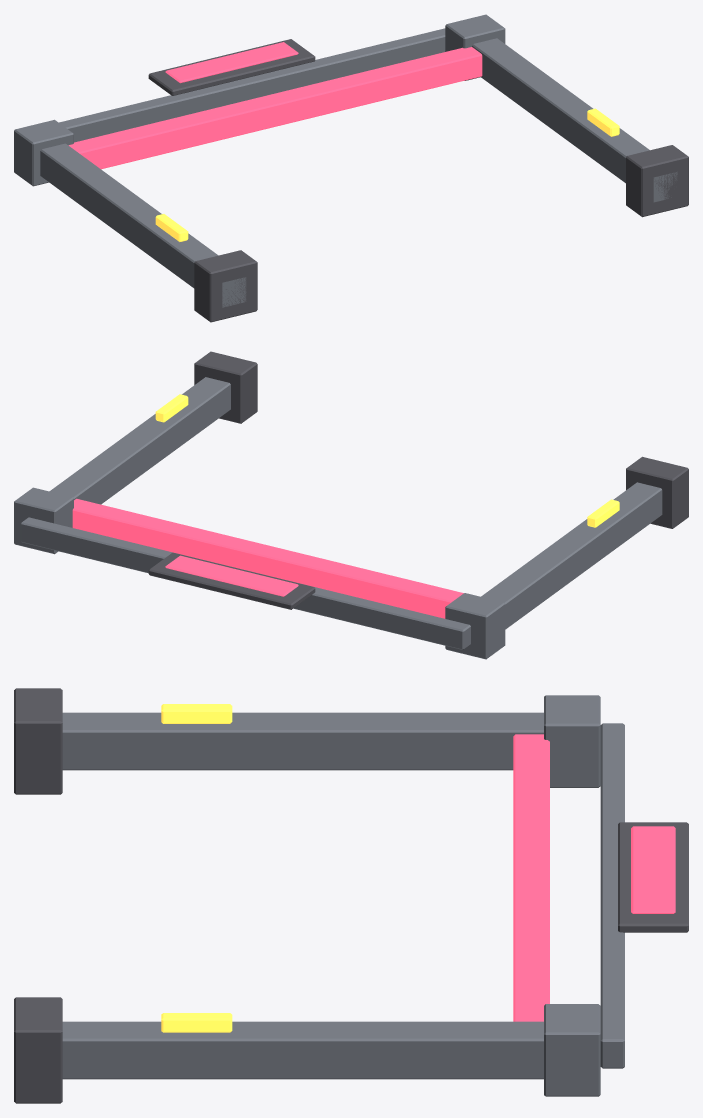
The model's file is hazard_laser_gate.glb.
The picture shows the model from 3 angles, top to bottom: view 1: azimuth 30°, elevation 25°; view 2: azimuth 150°, elevation 25°; view 3: azimuth 270°, elevation 25°; orthographic projection. The views are drawn at different scales.
Visible parts, largest first — view 1: HazardLaserGate; view 2: HazardLaserGate; view 3: HazardLaserGate.
Boxes of the visible parts, box(x1,y1,x2,y2) form: HazardLaserGate: box(14, 14, 688, 322); HazardLaserGate: box(14, 351, 688, 659); HazardLaserGate: box(14, 688, 688, 1103).
Bounding box in the file's own units: 4 × 0.4 × 3.33.
